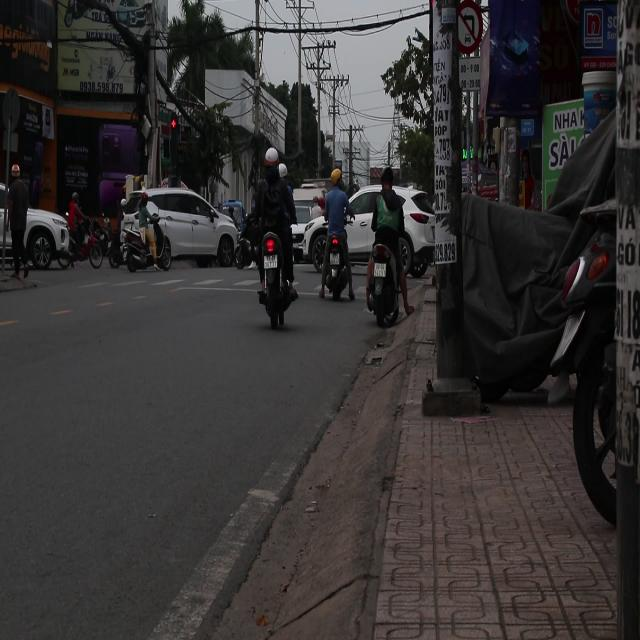car: (314, 173, 440, 294), (124, 188, 243, 268)
motorbike: (246, 197, 302, 329), (362, 202, 416, 329), (316, 215, 354, 302), (126, 212, 176, 278)
